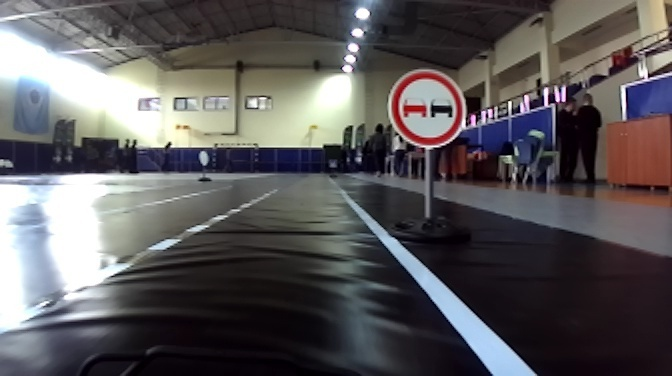sollama_yasak: (386, 70, 468, 152)
